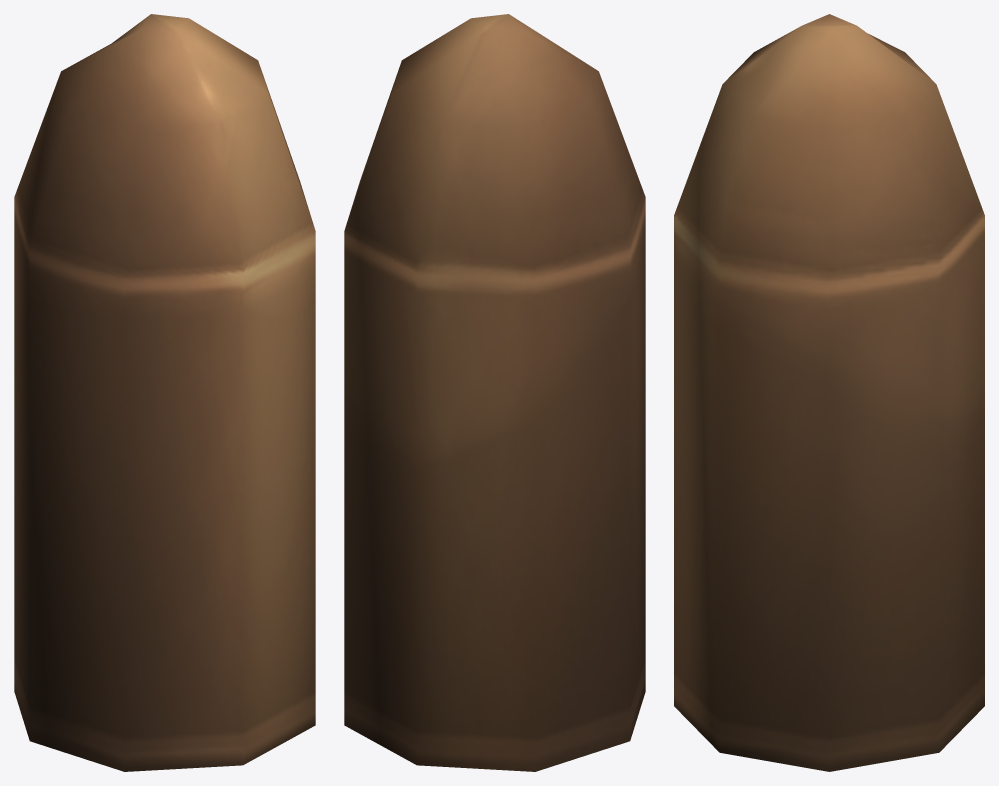
File: bullet.fbx
3 renders of one model, left to right at view 1: azimuth 30°, elevation 25°; view 2: azimuth 150°, elevation 25°; view 3: azimuth 270°, elevation 25°, orthographic.
Visible parts, largest first — view 1: bullet; view 2: bullet; view 3: bullet.
Part boxes in pixels (x1,y1,x2,y2): bullet: [14, 14, 315, 771]; bullet: [344, 14, 645, 771]; bullet: [674, 14, 984, 771].
Size of the model in its own units: 7.01 by 16.94 by 7.01.
